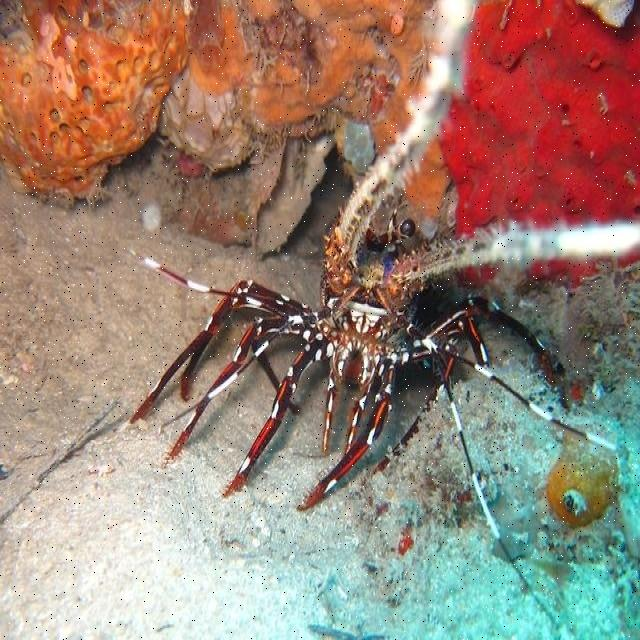fish: (562, 492, 590, 513)
reefs: (131, 1, 639, 619), (2, 1, 435, 250), (403, 1, 639, 238)
